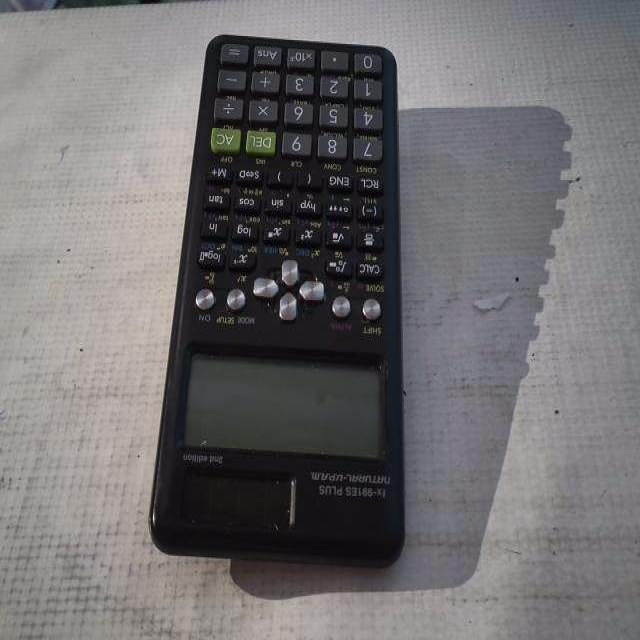Calculator: (146, 30, 407, 572)
